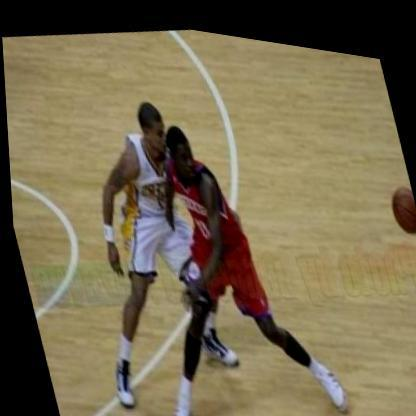basketball: (383, 168, 416, 225)
